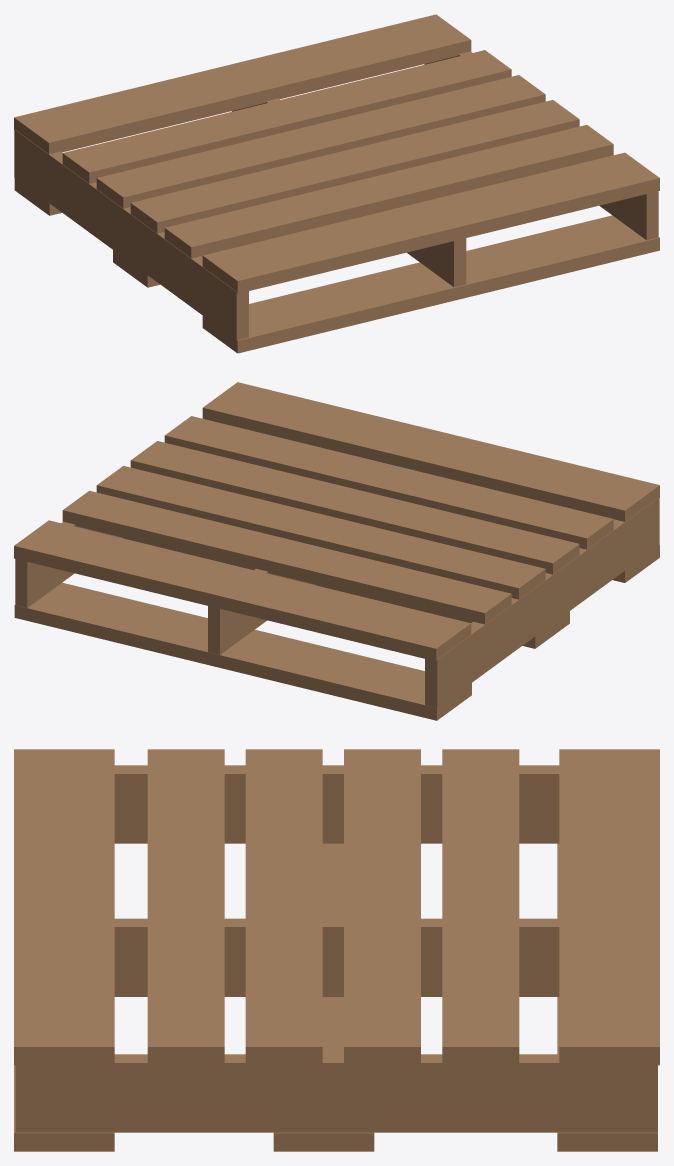
The model's file is Pallette.fbx.
The picture shows the model from 3 angles, top to bottom: view 1: azimuth 30°, elevation 25°; view 2: azimuth 150°, elevation 25°; view 3: azimuth 270°, elevation 25°; orthographic projection. The views are drawn at different scales.
Visible parts, largest first — view 1: Pallete; view 2: Pallete; view 3: Pallete.
Part boxes in pixels (x1,y1,x2,y2): Pallete: (14, 14, 659, 353); Pallete: (14, 382, 659, 720); Pallete: (14, 749, 659, 1151).
Size of the model in its own units: 7.17 by 1.18 by 6.57.
